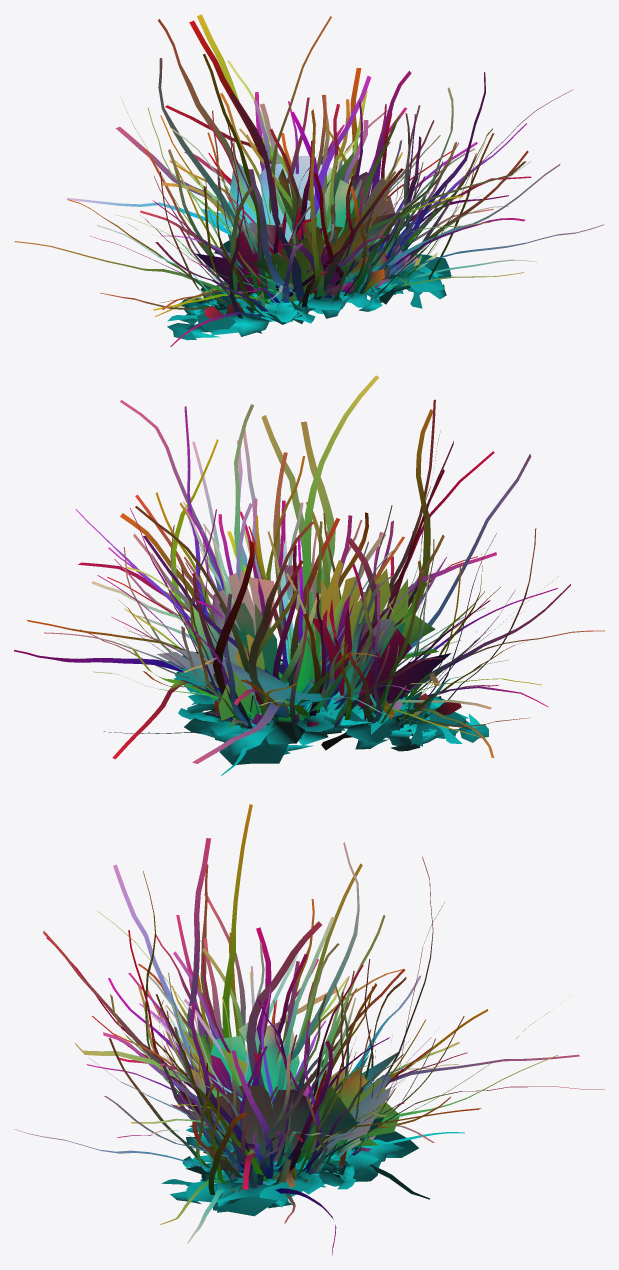
The model's file is Wild_Grass_vczndjqja_Mid_vczndjqja_VarD_LOD0.fbx.
The picture shows the model from 3 angles, top to bottom: view 1: azimuth 30°, elevation 25°; view 2: azimuth 150°, elevation 25°; view 3: azimuth 270°, elevation 25°; orthographic projection. The views are drawn at different scales.
Visible parts, largest first — view 1: _zf74_VarD_LOD1; view 2: _zf74_VarD_LOD1; view 3: _zf74_VarD_LOD1.
Boxes of the visible parts, bbox=[...] form: _zf74_VarD_LOD1: bbox=[14, 14, 604, 346]; _zf74_VarD_LOD1: bbox=[14, 375, 604, 775]; _zf74_VarD_LOD1: bbox=[14, 804, 604, 1255].
Size of the model in its own units: 139 by 77.9 by 143.
